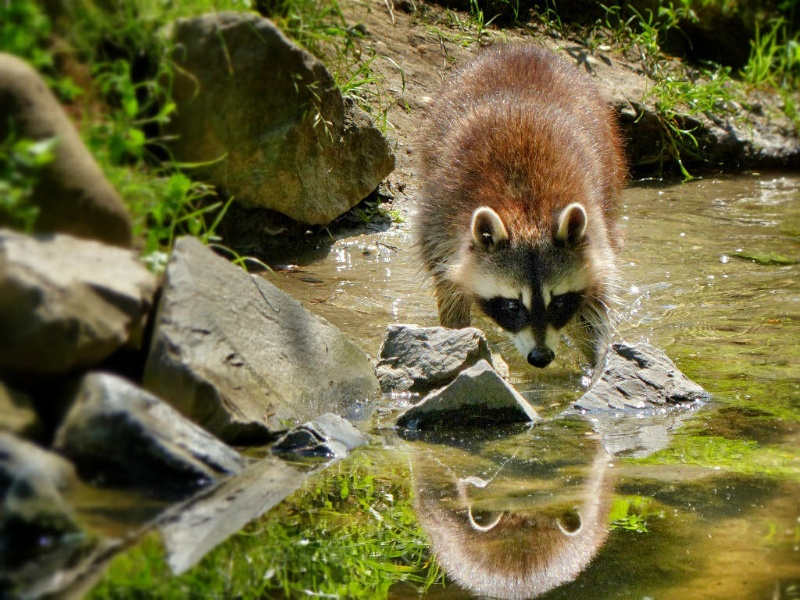raccoon: (408, 38, 635, 391)
